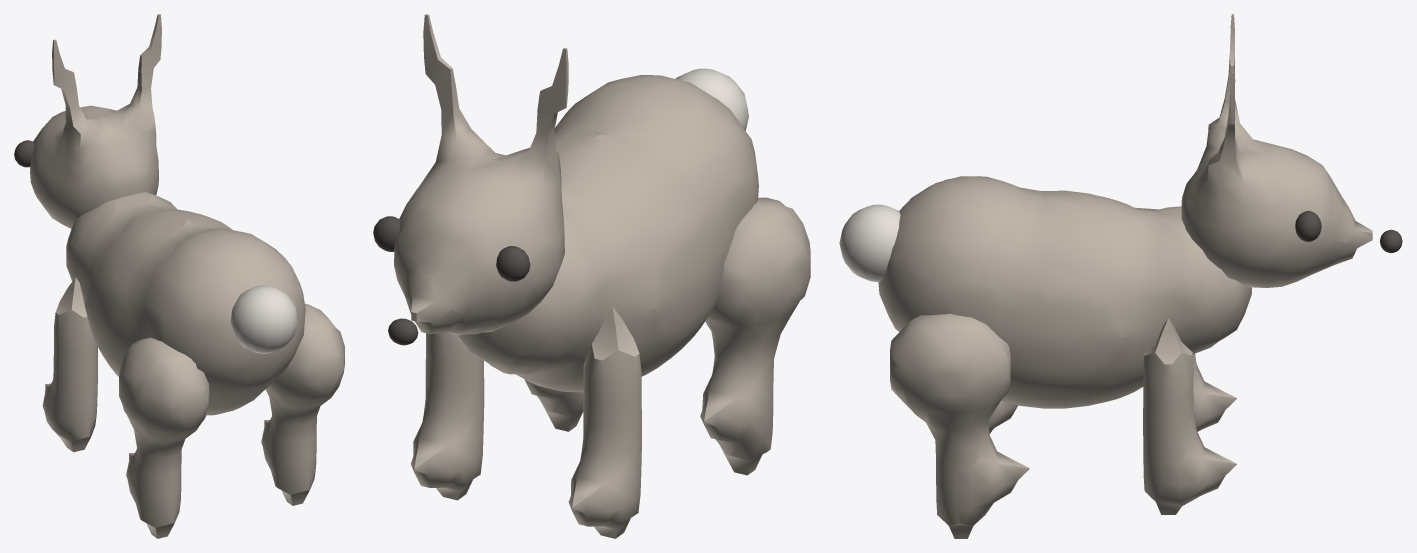
Rendered from rabbit.glb.
3 renders of one model, left to right at view 1: azimuth 30°, elevation 25°; view 2: azimuth 150°, elevation 25°; view 3: azimuth 270°, elevation 25°, orthographic. The views are drawn at different scales.
Parts seen in each view (by area): view 1: body, head, leg_back_L, leg_back_R, leg_front_L, tail; view 2: body, head, leg_back_L, leg_front_L, leg_front_R, tail, leg_back_R; view 3: body, head, leg_back_R, leg_front_R, tail, leg_front_L.
Boxes of the visible parts, box(x1,y1,x2,y2) form: body: box(66, 191, 305, 415); head: box(14, 14, 161, 228); leg_back_L: box(119, 337, 209, 538); leg_back_R: box(261, 303, 344, 505); leg_front_L: box(42, 278, 97, 452); tail: box(230, 285, 297, 353); body: box(456, 75, 758, 392); head: box(373, 14, 568, 345); leg_back_L: box(700, 197, 810, 475); leg_front_L: box(568, 307, 641, 538); leg_front_R: box(411, 332, 484, 500); tail: box(675, 68, 748, 130); leg_back_R: box(524, 379, 583, 431); body: box(878, 176, 1251, 408); head: box(1181, 14, 1402, 287); leg_back_R: box(890, 313, 1029, 538); leg_front_R: box(1143, 319, 1236, 514); tail: box(839, 204, 900, 282); leg_front_L: box(1193, 354, 1236, 431).
Bounding box in the file's own units: 0.2629 × 0.4851 × 0.5435.
